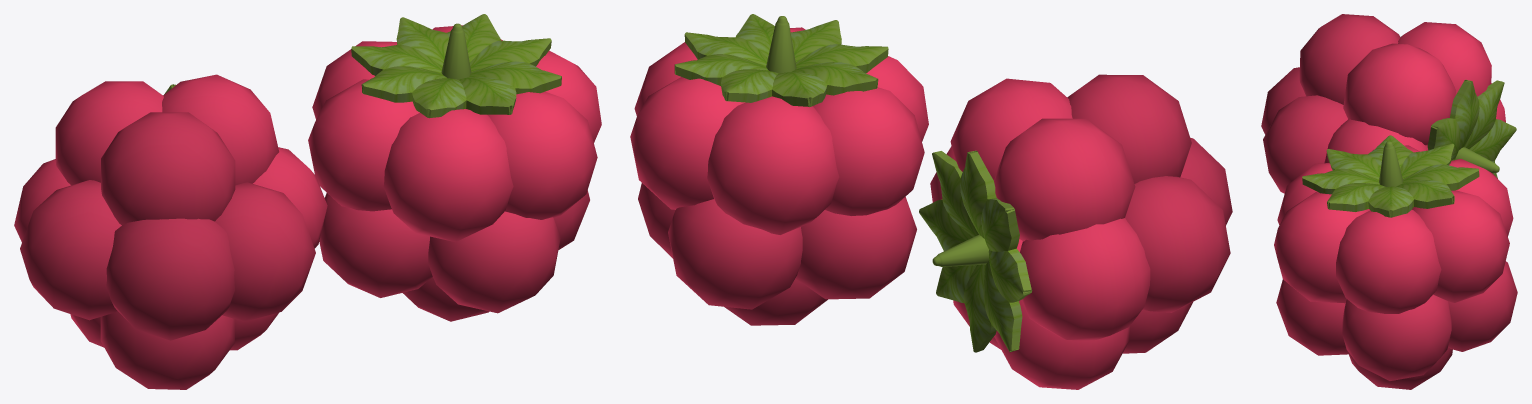
File: Raspberry.fbx
The picture shows the model from 3 angles, left to right: view 1: azimuth 30°, elevation 25°; view 2: azimuth 150°, elevation 25°; view 3: azimuth 270°, elevation 25°; orthographic projection. The views are drawn at different scales.
Parts seen in each view (by area): view 1: Raspberry 2, Raspberry; view 2: Raspberry 2, Raspberry; view 3: Raspberry, Raspberry 2.
Boxes of the visible parts, <box> form: Raspberry 2: <box>14,74,327,389</box>; Raspberry: <box>308,14,601,321</box>; Raspberry 2: <box>919,74,1232,389</box>; Raspberry: <box>630,14,928,325</box>; Raspberry: <box>1274,135,1517,389</box>; Raspberry 2: <box>1261,14,1516,193</box>.
Bounding box in the file's own units: 11.9 × 5.99 × 5.75.
